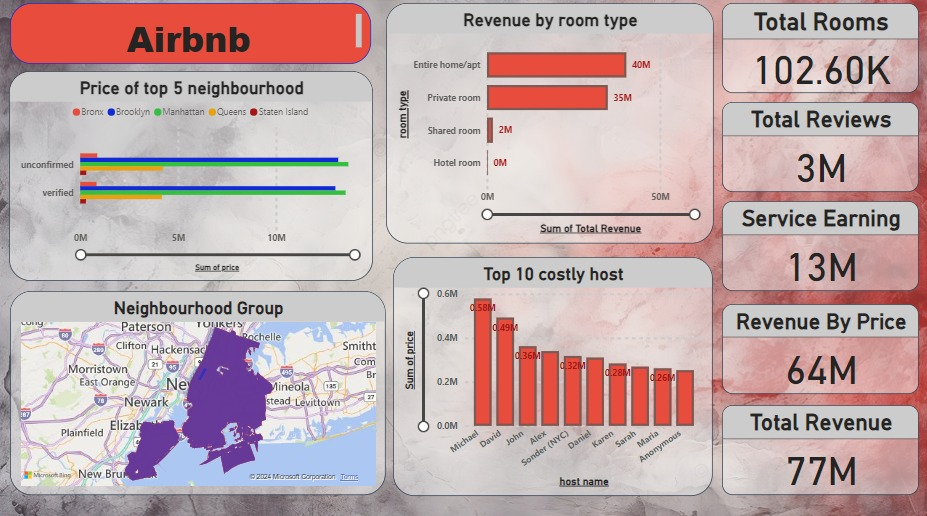

The page's visual inventory and layout, read from the dashboard file:
{"tool":"powerbi","page":{"name":"Page 1","canvas":[1280,720],"ordinal":0},"visuals":[{"type":"card","title":"Total Rooms","fields":{"Values":["CountNonNull(Airbnb sql.id)"]},"box":[995.1,11,271.1,123.9],"z":0},{"type":"textbox","box":[14.7,10.7,497.3,84],"z":1000},{"type":"card","title":"Service Earning","fields":{"Values":["Sum(Airbnb sql.service fee)"]},"box":[995.1,283.5,271.1,123.9],"z":2000},{"type":"card","title":"Revenue By Price","fields":{"Values":["Sum(Airbnb sql.price)"]},"box":[995.1,425.3,271.1,123.9],"z":3000},{"type":"card","title":"Total Revenue","fields":{"Values":["Sum(Airbnb sql.Total Revenue)"]},"box":[995.1,564.3,271.1,123.9],"z":4000},{"type":"filledMap","title":"Neighbourhood Group","fields":{"Category":["Airbnb sql.neighbourhood group"],"Series":["Airbnb sql.host_identity_verified"]},"box":[14.7,408,517.3,281.3],"z":5000},{"type":"clusteredBarChart","title":"Price of top 5 neighbourhood","fields":{"Category":["Airbnb sql.host_identity_verified"],"Y":["Sum(Airbnb sql.price)"],"Series":["Airbnb sql.neighbourhood group"]},"box":[13.3,104,501.3,289.3],"z":6000},{"type":"columnChart","title":"Top 10 costly host","fields":{"Category":["Airbnb sql.host name"],"Y":["Sum(Airbnb sql.price)"]},"box":[542.7,360,440,329.3],"z":7000},{"type":"barChart","title":"Revenue by room type","fields":{"Category":["Airbnb sql.room type"],"Y":["Sum(Airbnb sql.Total Revenue)"]},"box":[532,10.7,450.7,330.7],"z":8000},{"type":"card","title":"Total Reviews","fields":{"Values":["Sum(Airbnb sql.number of reviews)"]},"box":[995.1,147.3,271.1,123.9],"z":8001}]}

Visuals, with their boxes in screenshot pixels (x1, y1, x2, y2), scaled from the page's 1280x720 canvas onto the 927x516 screenshot:
"Total Rooms" card: 721/8/917/97
textbox: 11/8/371/68
"Service Earning" card: 721/203/917/292
"Revenue By Price" card: 721/305/917/394
"Total Revenue" card: 721/404/917/493
"Neighbourhood Group" filledMap: 11/292/385/494
"Price of top 5 neighbourhood" clusteredBarChart: 10/75/373/282
"Top 10 costly host" columnChart: 393/258/712/494
"Revenue by room type" barChart: 385/8/712/245
"Total Reviews" card: 721/106/917/194
